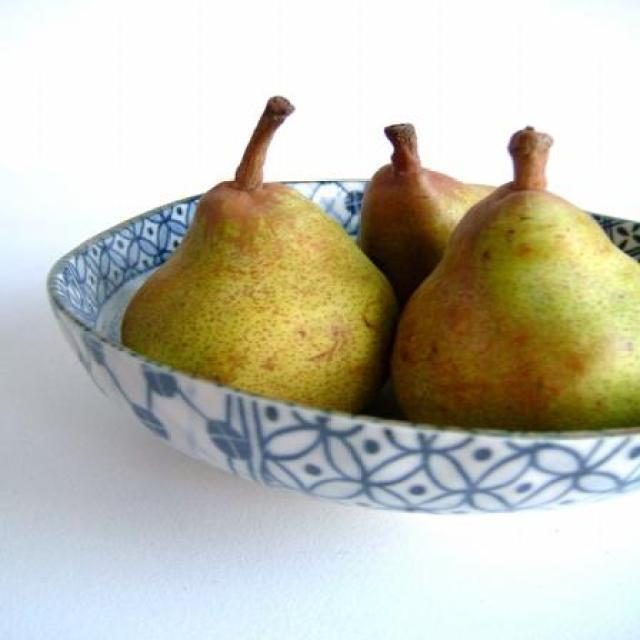Pear: (120, 178, 403, 411), (383, 183, 640, 436), (350, 163, 504, 303)
